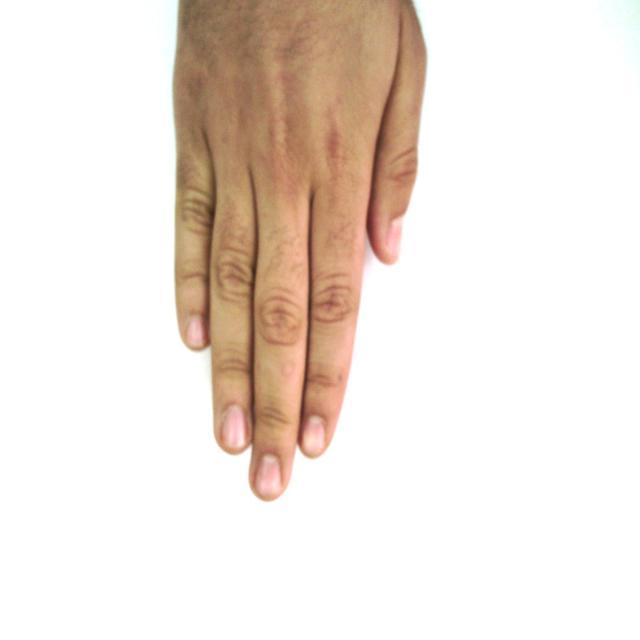Fingernail: (257, 455, 282, 497), (223, 406, 246, 449), (304, 417, 325, 456), (388, 219, 403, 261), (186, 316, 204, 347)
